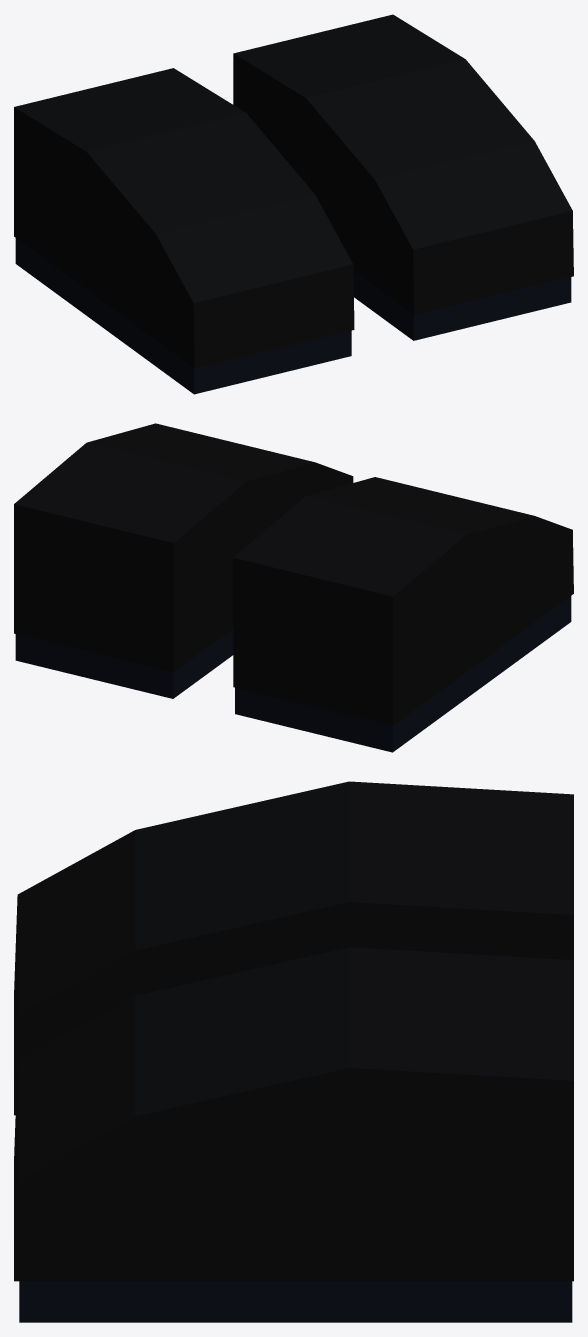
Rendered from le-z-shoes.glb.
3 views of the same model, one above another, from view 1: azimuth 30°, elevation 25°; view 2: azimuth 150°, elevation 25°; view 3: azimuth 270°, elevation 25° (orthographic). The views are drawn at different scales.
Visible parts, largest first — view 1: le-z-shoe-R, le-z-shoe-L; view 2: le-z-shoe-R, le-z-shoe-L; view 3: le-z-shoe-L, le-z-shoe-R.
Part boxes in pixels (bbox=[...]): le-z-shoe-R: bbox=[14, 68, 354, 394]; le-z-shoe-L: bbox=[233, 14, 573, 340]; le-z-shoe-R: bbox=[233, 477, 573, 752]; le-z-shoe-L: bbox=[14, 423, 353, 698]; le-z-shoe-L: bbox=[14, 947, 573, 1322]; le-z-shoe-R: bbox=[14, 781, 573, 1115].
Size of the model in its own units: 0.38 by 0.158 by 0.314.
1 material, 1 textured.
